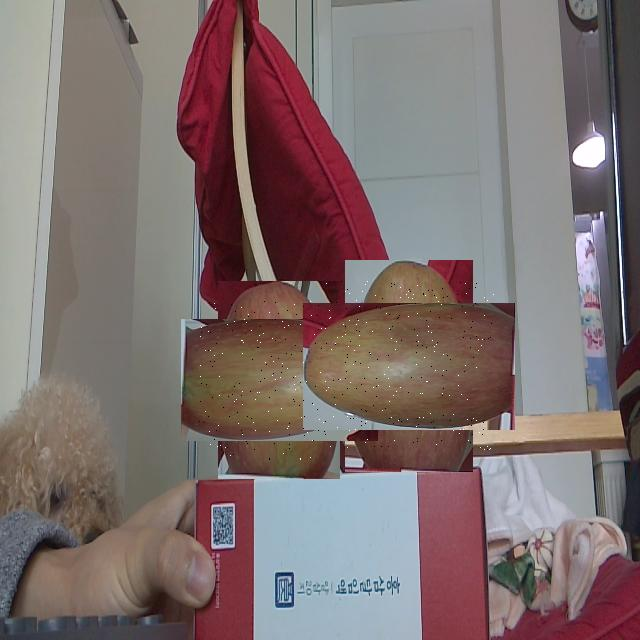apple: (324, 281, 494, 451), (199, 300, 359, 460)
